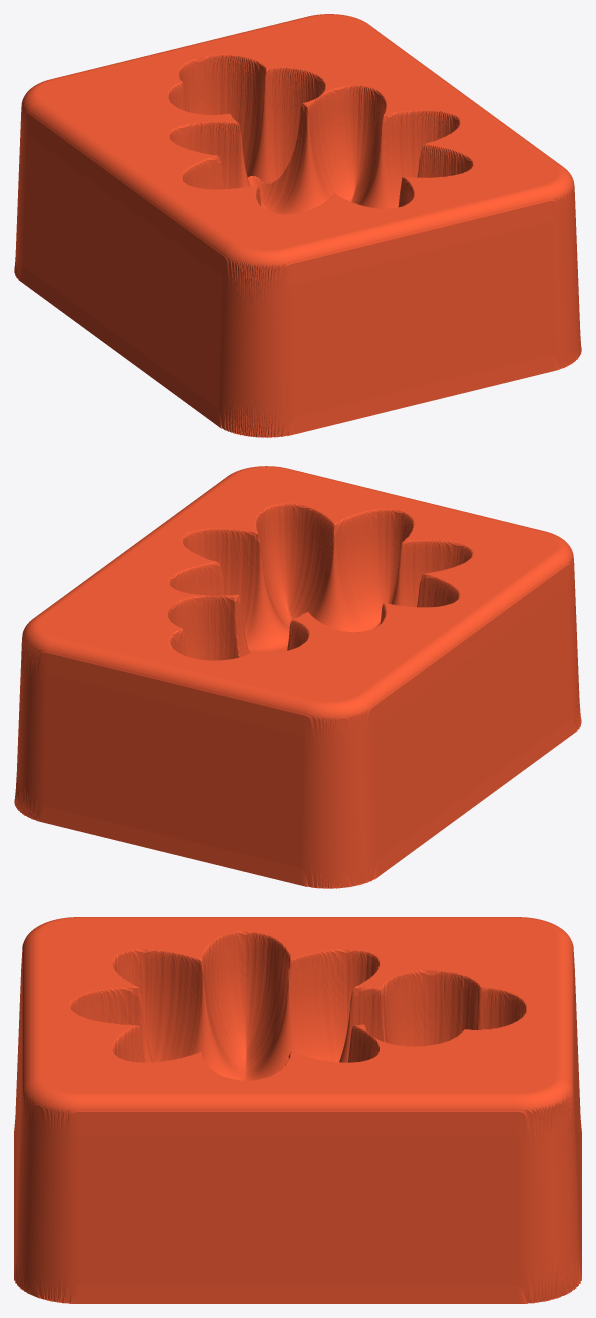
Rendered from mold.glb.
3 renders of one model, top to bottom at view 1: azimuth 30°, elevation 25°; view 2: azimuth 150°, elevation 25°; view 3: azimuth 270°, elevation 25°, orthographic. The views are drawn at different scales.
Visible parts, largest first — view 1: geometry_0; view 2: geometry_0; view 3: geometry_0.
Part boxes in pixels (x1,y1,x2,y2): geometry_0: (14,14,581,437); geometry_0: (14,466,581,888); geometry_0: (14,917,581,1303).
Size of the model in its own units: 0.0652 by 0.031 by 0.0798.
